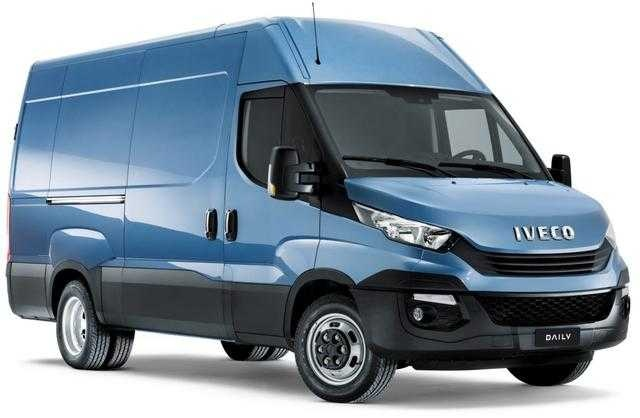van: (7, 13, 631, 404)
